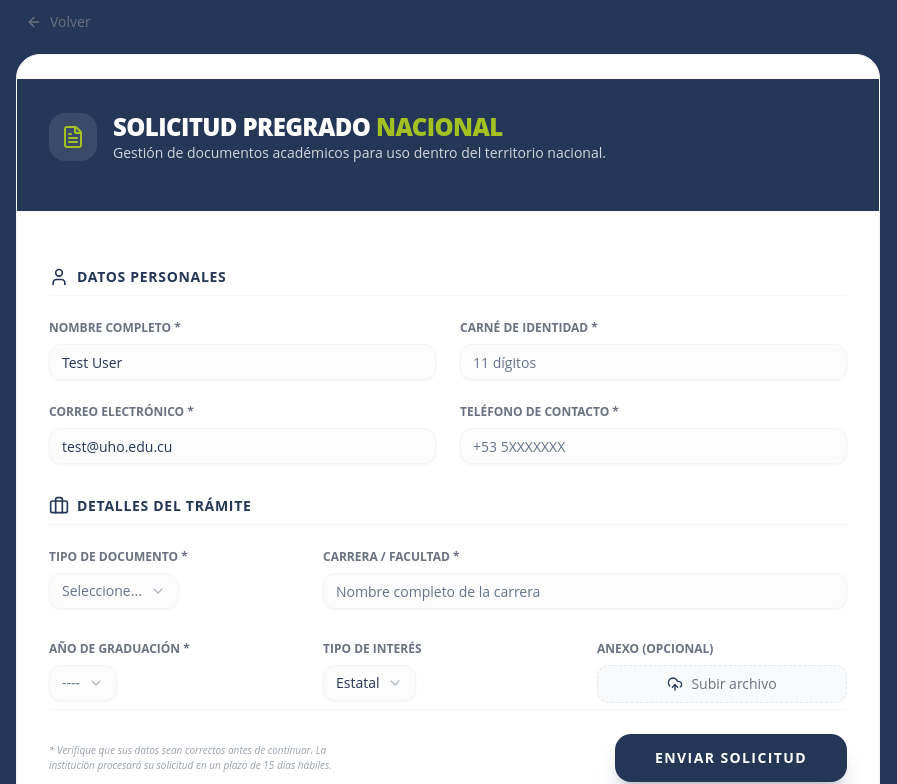
Scenario: UnderNatProcedure validación común › rechaza carné con menos de 11 dígitos
Type "12345" into the field labelled "Carné de Identidad *" at (654, 362), box 460,344 -> 847,380
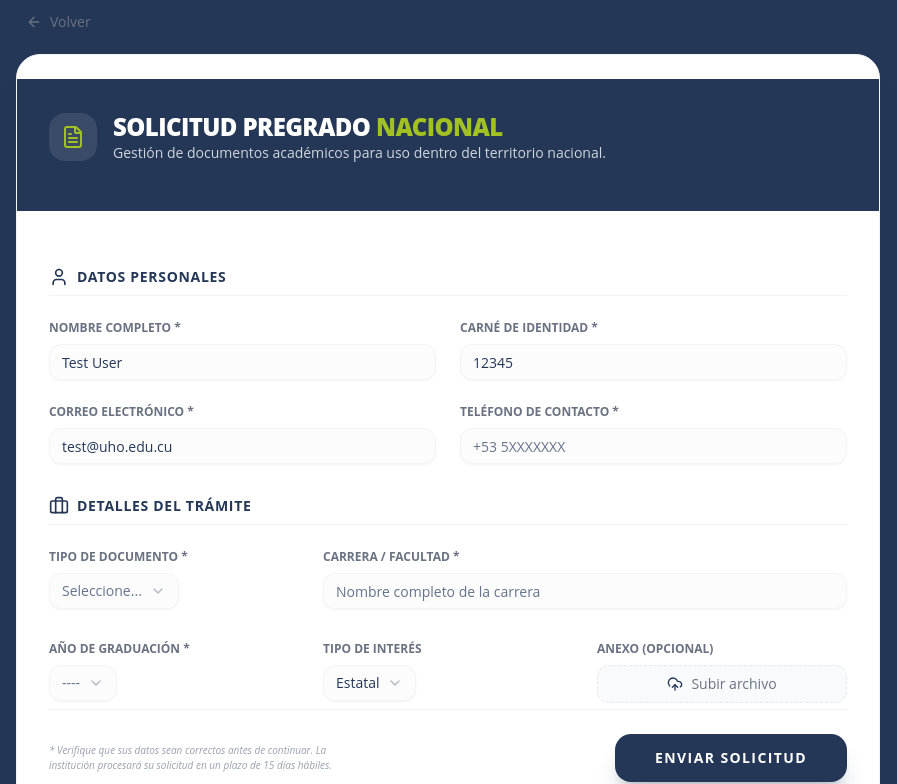
Click the button "Enviar Solicitud" at (731, 758), box 615,734 -> 847,782
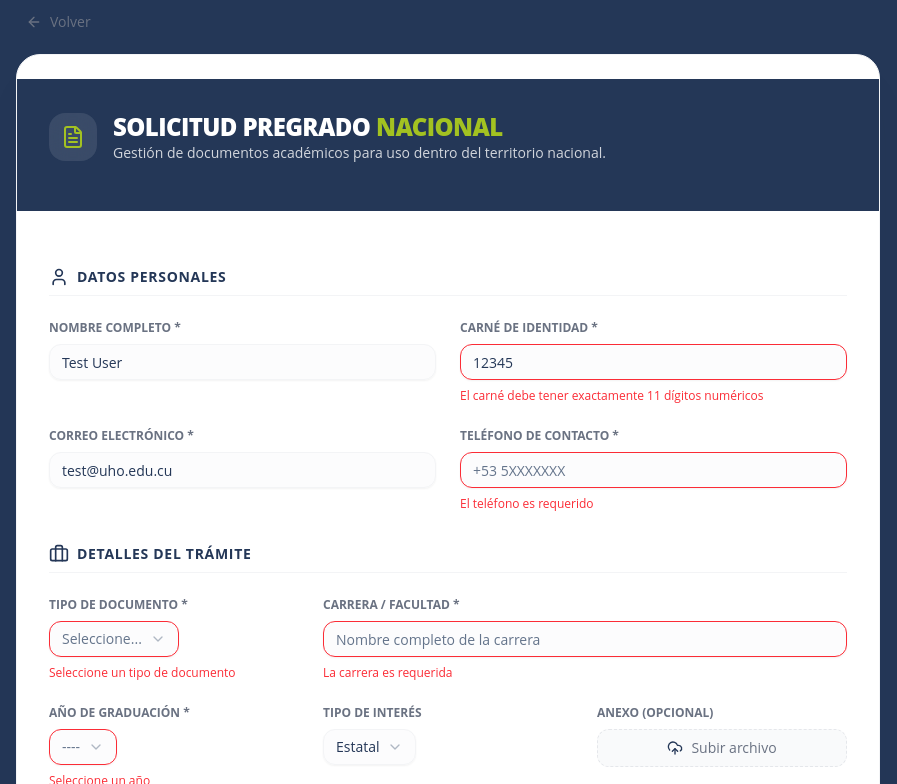
Now the text "El carné debe tener exactamente 11 dígitos numéricos" is shown, box 460,387 -> 764,404
